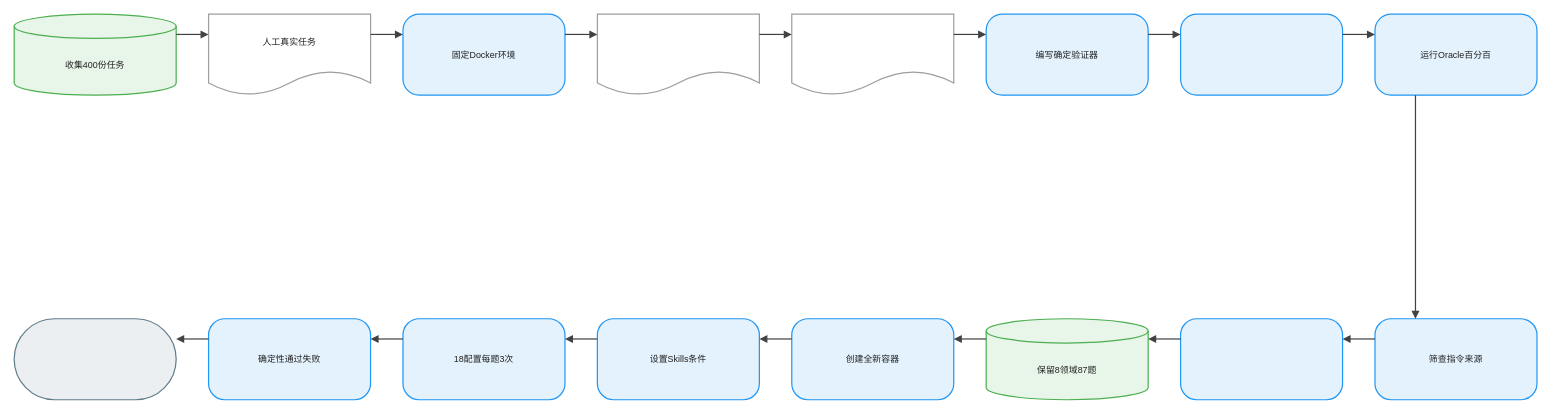
The diagram is 1552 pixels wide and 415 high, and some of its shapes have lost their labels. The shapes that lost their labels are listed below. From the top down, each one's box as (x1, y1, x2, y2) in pixels, then its label:
(596, 13, 760, 95): 独立整理Skills
(791, 13, 954, 95): 编写Oracle解法
(1180, 13, 1343, 95): 检查结构Schema
(13, 318, 176, 400): 通过率与增益
(1180, 318, 1343, 400): 阻断答案泄漏
